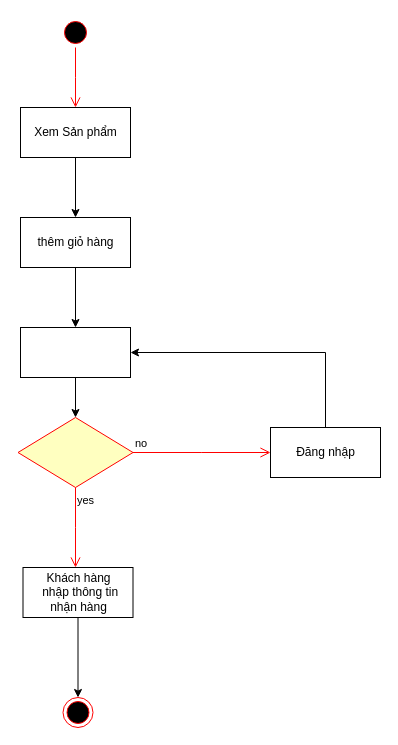
This 398x745 diagram has some shape labels left out. Here are the shapes that lost their labels. From the top down, the box of each, then its label:
(20, 326, 130, 378): Đặt hàng
(17, 416, 133, 488): Kiểm tra đăng nhập
